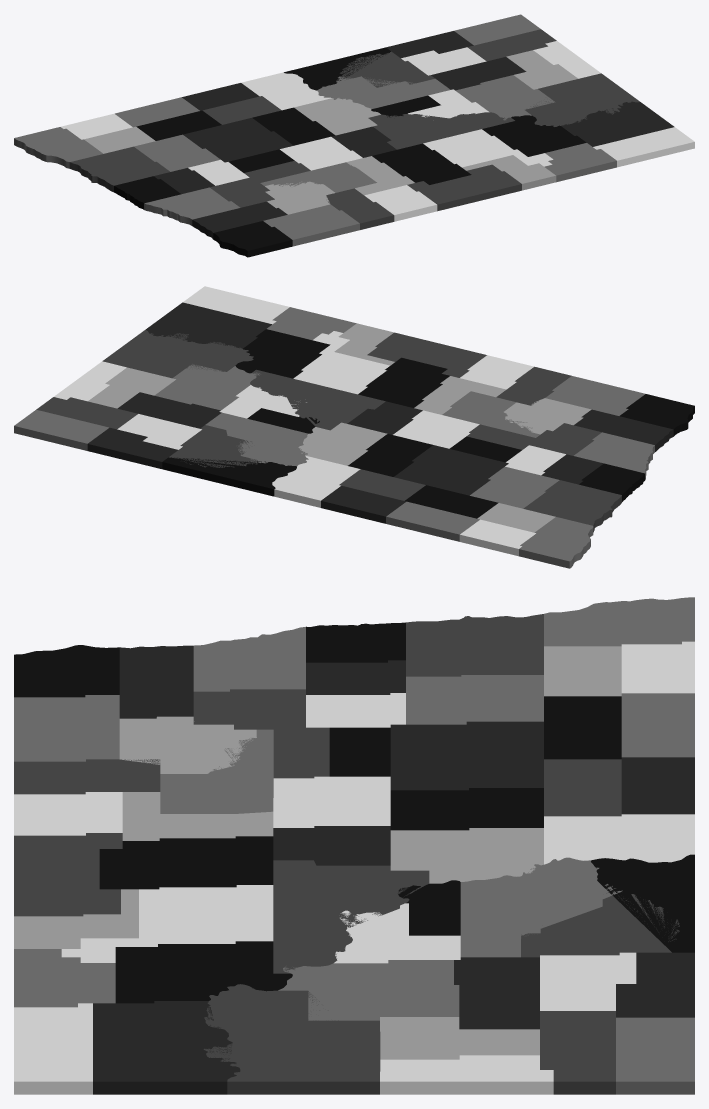
The model's file is North_Dakota_Counties_3D.fbx.
3 views of the same model, one above another, from view 1: azimuth 30°, elevation 25°; view 2: azimuth 150°, elevation 25°; view 3: azimuth 270°, elevation 25° (orthographic). The views are drawn at different scales.
Visible parts, largest first — view 1: ND_McKenzie_County_3D, ND_McLean_County_3D, ND_Williams_County_3D, ND_Stutsman_County_3D, ND_Bottineau_County_3D, ND_Morton_County_3D, ND_Cass_County_3D, ND_Ward_County_3D, ND_Dunn_County_3D, ND_Mountrail_County_3D, ND_Cavalier_County_3D, ND_McHenry_County_3D (+41 smaller); view 2: ND_McKenzie_County_3D, ND_McLean_County_3D, ND_Williams_County_3D, ND_Stutsman_County_3D, ND_Morton_County_3D, ND_Ward_County_3D, ND_Dunn_County_3D, ND_Sioux_County_3D, ND_Cass_County_3D, ND_Mountrail_County_3D, ND_McHenry_County_3D, ND_Richland_County_3D (+41 smaller); view 3: ND_McKenzie_County_3D, ND_Williams_County_3D, ND_McLean_County_3D, ND_Stutsman_County_3D, ND_Morton_County_3D, ND_Dunn_County_3D, ND_Ward_County_3D, ND_Mountrail_County_3D, ND_McHenry_County_3D, ND_Cass_County_3D, ND_Bottineau_County_3D, ND_Burleigh_County_3D (+41 smaller).
Part boxes in pixels (<box>): ND_McKenzie_County_3D: <box>525,73,639,126</box>; ND_McLean_County_3D: <box>368,112,514,149</box>; ND_Williams_County_3D: <box>561,101,674,146</box>; ND_Stutsman_County_3D: <box>183,118,293,162</box>; ND_Bottineau_County_3D: <box>407,164,521,211</box>; ND_Morton_County_3D: <box>316,76,450,108</box>; ND_Cass_County_3D: <box>69,146,169,192</box>; ND_Ward_County_3D: <box>423,129,553,167</box>; ND_Dunn_County_3D: <box>455,75,555,120</box>; ND_Mountrail_County_3D: <box>482,115,586,156</box>; ND_Cavalier_County_3D: <box>263,204,359,246</box>; ND_McHenry_County_3D: <box>372,143,471,184</box>; ND_McKenzie_County_3D: <box>102,330,253,378</box>; ND_McLean_County_3D: <box>250,369,385,430</box>; ND_Williams_County_3D: <box>145,302,271,348</box>; ND_Stutsman_County_3D: <box>394,445,508,495</box>; ND_Morton_County_3D: <box>205,412,308,466</box>; ND_Ward_County_3D: <box>293,331,389,394</box>; ND_Dunn_County_3D: <box>155,364,260,410</box>; ND_Sioux_County_3D: <box>162,457,296,496</box>; ND_Cass_County_3D: <box>523,480,621,532</box>; ND_Mountrail_County_3D: <box>235,329,330,378</box>; ND_McHenry_County_3D: <box>358,357,449,407</box>; ND_Richland_County_3D: <box>519,517,593,568</box>; ND_McKenzie_County_3D: <box>203,984,380,1094</box>; ND_Williams_County_3D: <box>93,1001,240,1094</box>; ND_McLean_County_3D: <box>273,860,429,973</box>; ND_Stutsman_County_3D: <box>390,721,543,790</box>; ND_Morton_County_3D: <box>460,857,622,957</box>; ND_Dunn_County_3D: <box>278,960,459,1020</box>; ND_Ward_County_3D: <box>61,885,273,962</box>; ND_Mountrail_County_3D: <box>115,941,292,1003</box>; ND_McHenry_County_3D: <box>99,836,273,889</box>; ND_Cass_County_3D: <box>406,614,543,676</box>; ND_Bottineau_County_3D: <box>14,833,122,916</box>; ND_Burleigh_County_3D: <box>390,828,543,883</box>.
Size of the model in its own units: 795 by 10 by 473.
